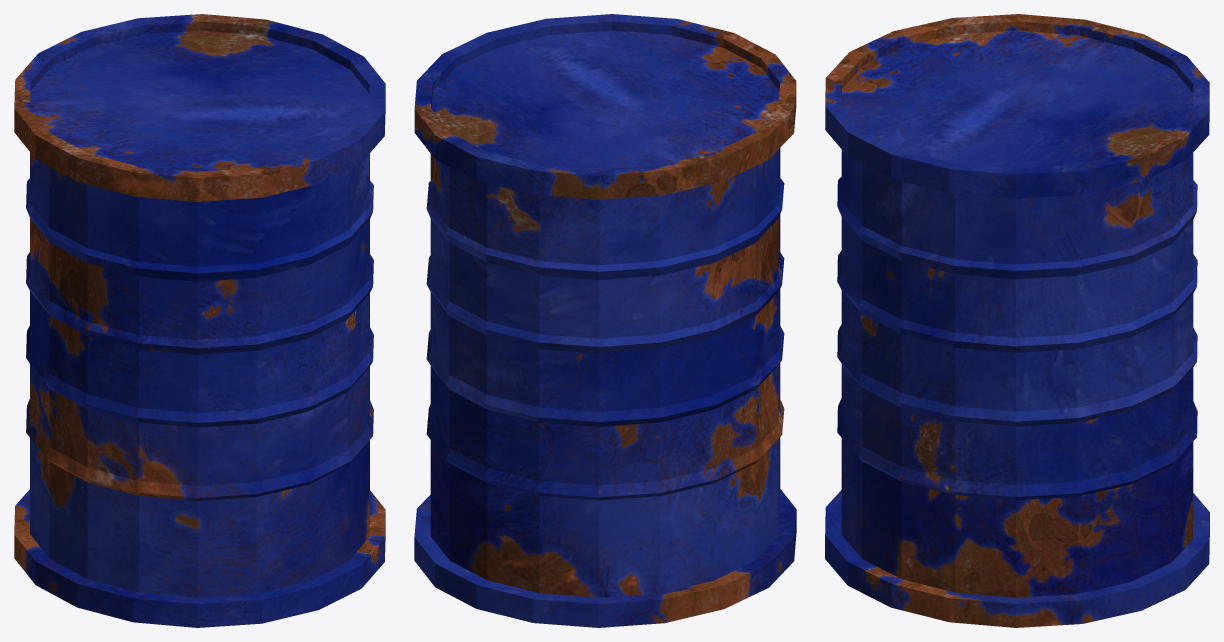
The model's file is 1kLowPolyDBlue.glb.
3 views of the same model, side by side, from view 1: azimuth 30°, elevation 25°; view 2: azimuth 150°, elevation 25°; view 3: azimuth 270°, elevation 25° (orthographic).
Parts seen in each view (by area): view 1: LowPolyDBlue; view 2: LowPolyDBlue; view 3: LowPolyDBlue.
Part boxes in pixels (bbox=[...]): LowPolyDBlue: bbox=[14, 14, 385, 627]; LowPolyDBlue: bbox=[414, 14, 796, 627]; LowPolyDBlue: bbox=[825, 14, 1209, 627].
Size of the model in its own units: 0.705 by 0.9268 by 0.713.
Materials: 1 (1 with a texture image).
